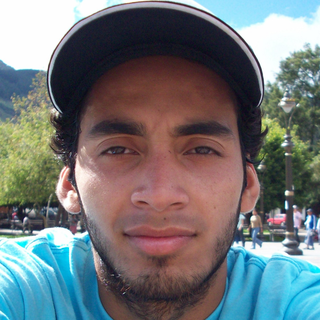eye: (91, 139, 145, 162), (179, 139, 230, 161)
